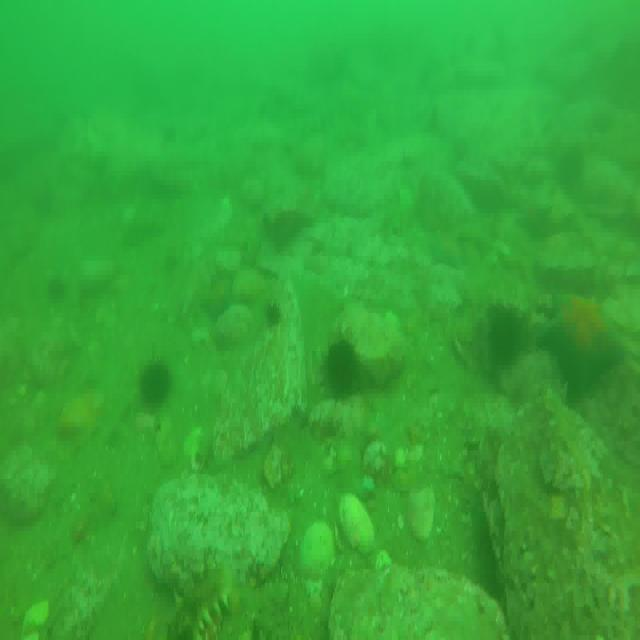echinus: (485, 304, 527, 369), (323, 338, 365, 402), (140, 357, 176, 413), (264, 300, 286, 335), (46, 274, 68, 306)
holothurian: (530, 384, 591, 496), (156, 569, 233, 640)
scallop: (337, 488, 378, 559), (297, 514, 333, 581)
starfish: (540, 291, 627, 398), (204, 274, 241, 320)
